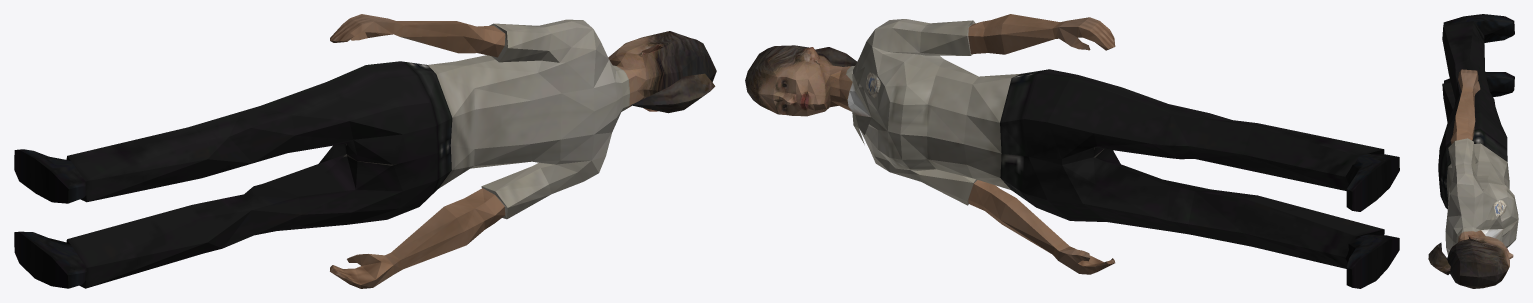
Rendered from wfycllv.obj.
3 views of the same model, side by side, from view 1: azimuth 30°, elevation 25°; view 2: azimuth 150°, elevation 25°; view 3: azimuth 270°, elevation 25° (orthographic). The views are drawn at different scales.
Visible parts, largest first — view 1: noname_0; view 2: noname_0; view 3: noname_0.
Boxes of the visible parts, box(x1,y1,x2,y2) form: noname_0: box(14, 14, 716, 288); noname_0: box(745, 14, 1399, 288); noname_0: box(1428, 14, 1518, 288).
Size of the model in its own units: 1.81 by 0.6857 by 0.3109.
1 material, 1 textured.
